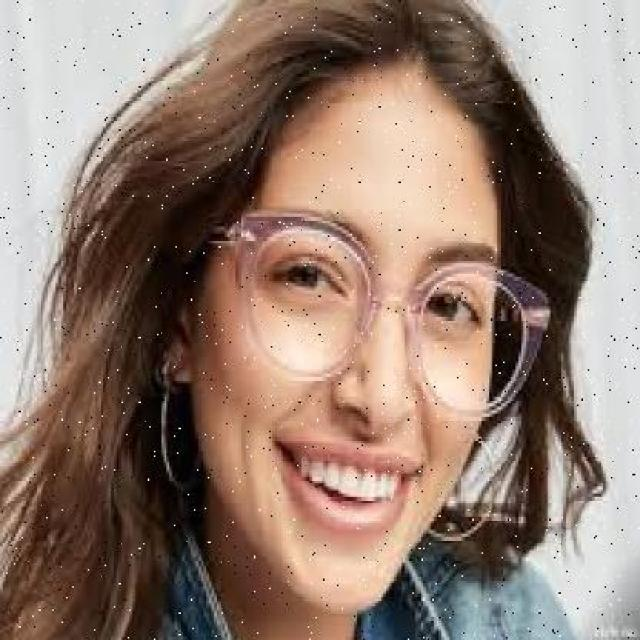glasses: (232, 188, 550, 432)
